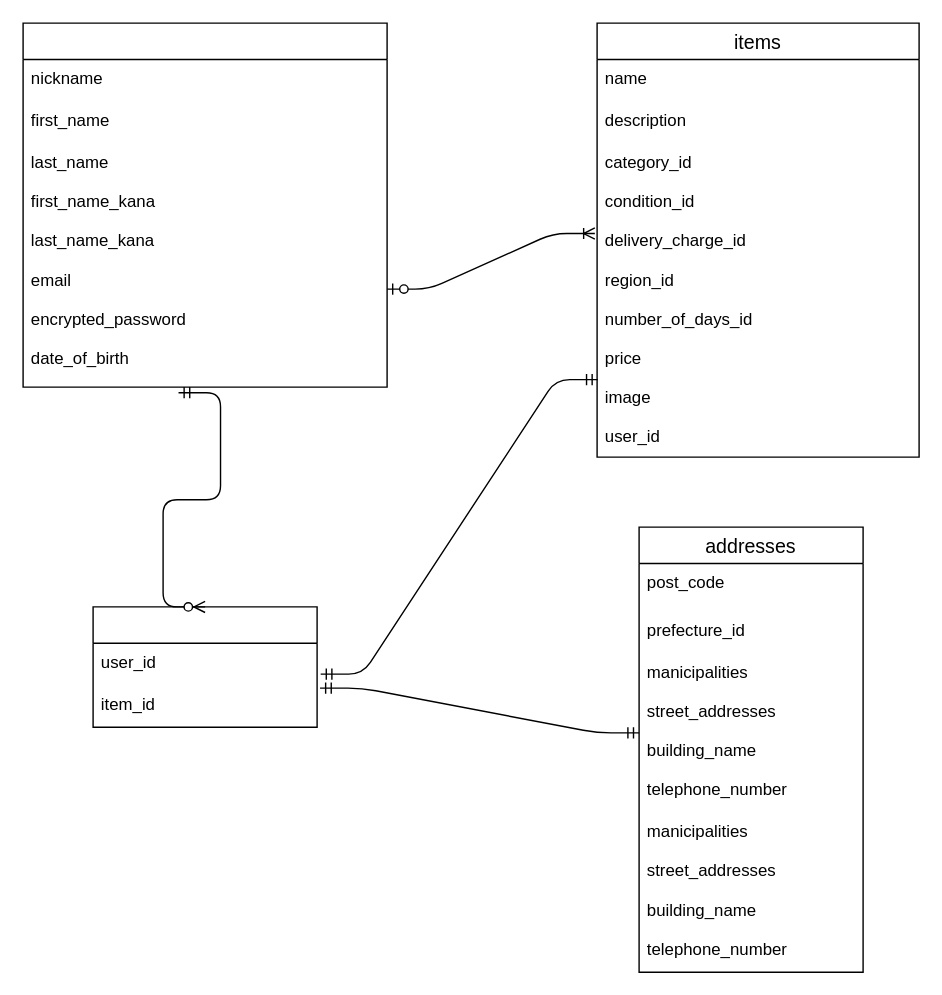
Image size: 942x995. Some labels were removed from this diagram. Each missing label, with the box of its shape:
records: (92, 606, 317, 727)
users: (22, 22, 387, 387)
